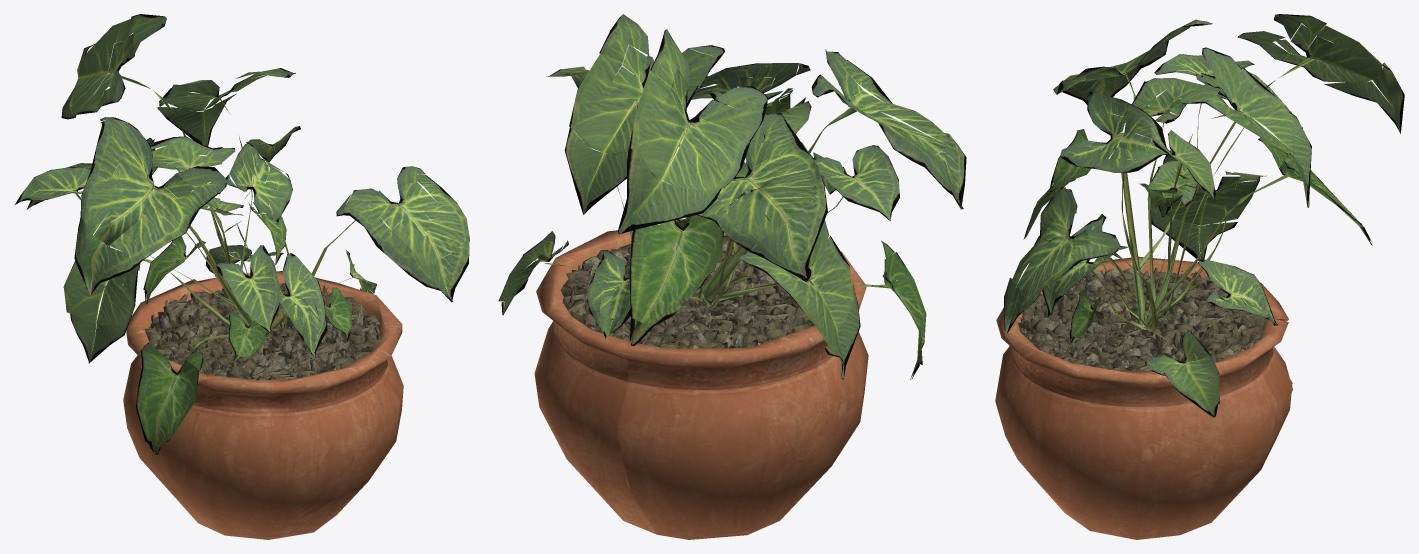
File: flower_pot_vn.glb
The picture shows the model from 3 angles, left to right: view 1: azimuth 30°, elevation 25°; view 2: azimuth 150°, elevation 25°; view 3: azimuth 270°, elevation 25°; orthographic projection. The views are drawn at different scales.
Visible parts, largest first — view 1: flower_pot_vn; view 2: flower_pot_vn; view 3: flower_pot_vn.
Part boxes in pixels (x1,y1,x2,y2): flower_pot_vn: (15,14,469,539); flower_pot_vn: (498,14,966,539); flower_pot_vn: (995,14,1404,539).
Bounding box in the file's own units: 0.6999 × 0.8408 × 0.6569.
Materials: 2 (2 with a texture image).
